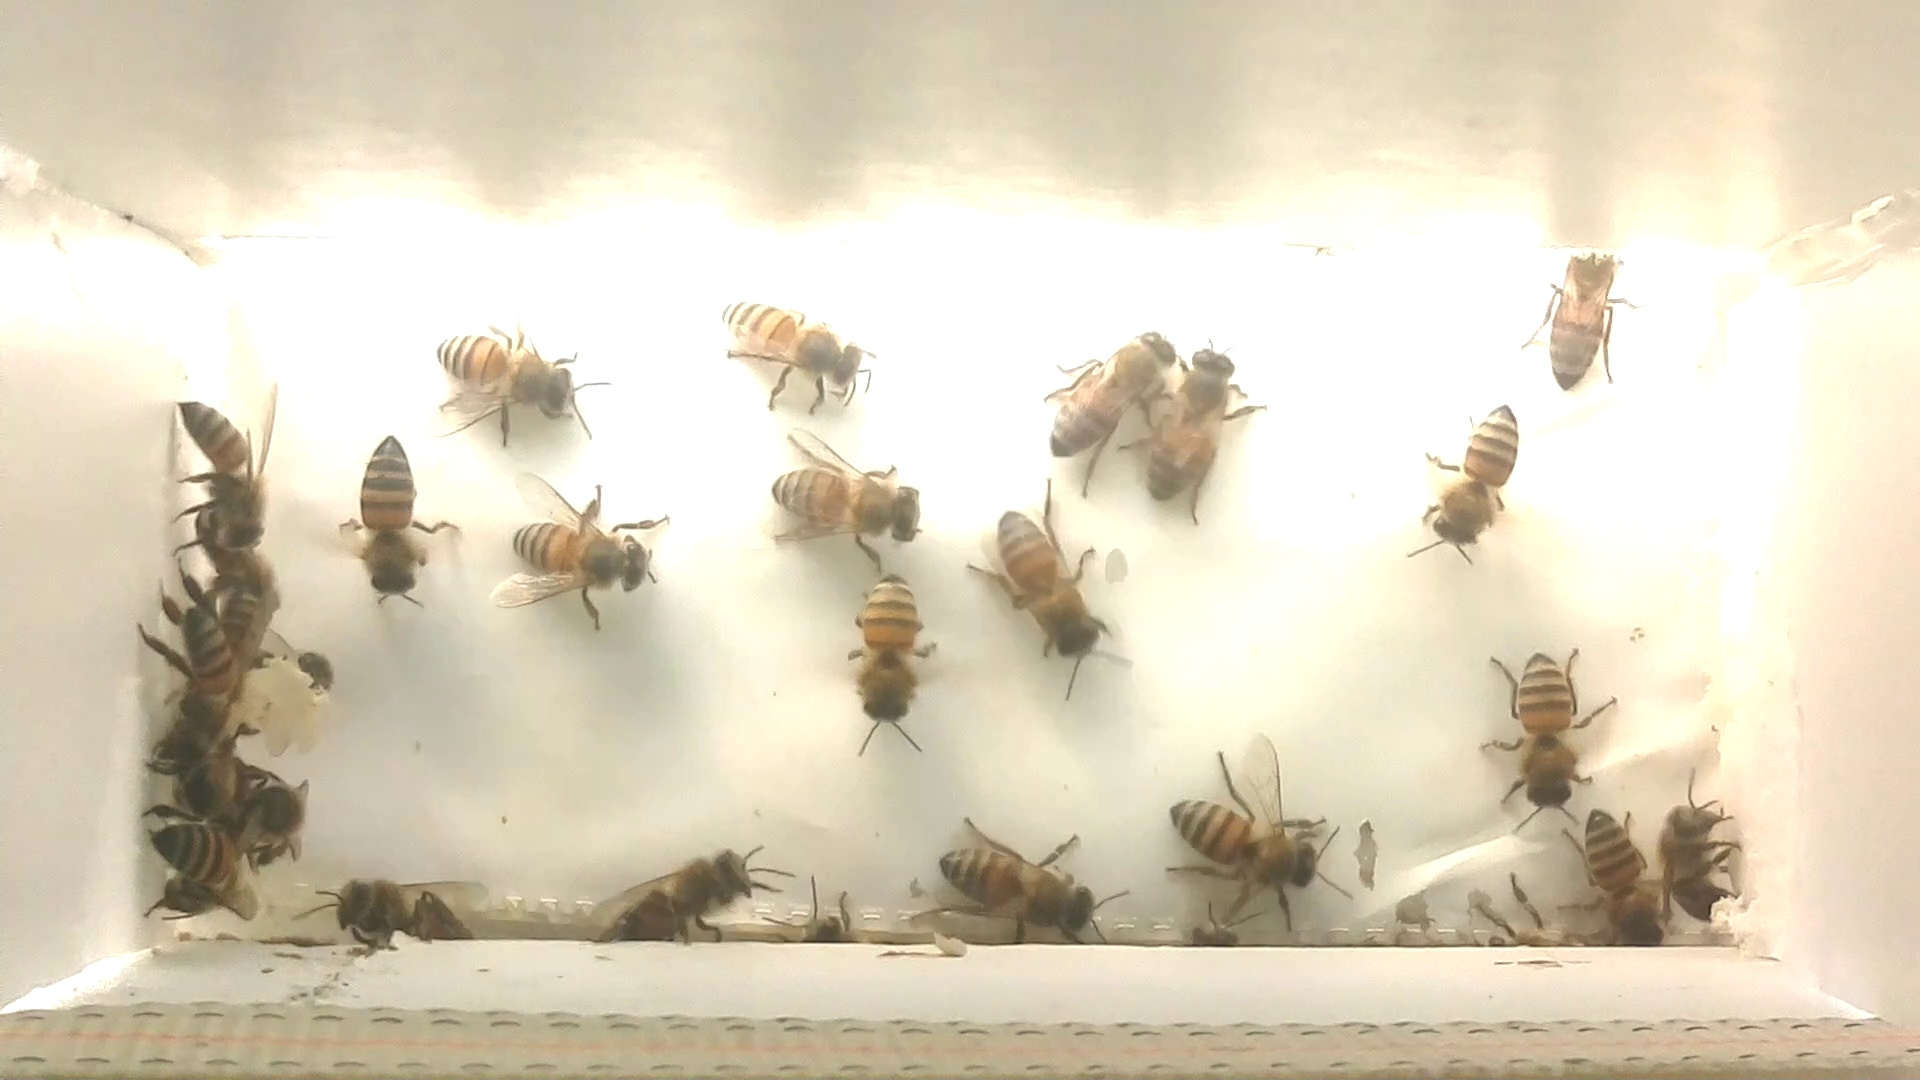bee: (945, 471, 1135, 708), (1149, 735, 1354, 936), (473, 458, 684, 654), (305, 406, 469, 630), (909, 806, 1131, 955), (1120, 316, 1271, 535), (700, 278, 899, 443), (1464, 621, 1621, 829), (1025, 303, 1185, 506), (749, 415, 942, 582), (409, 310, 616, 459), (564, 819, 785, 949), (1398, 381, 1536, 580), (824, 556, 949, 771), (154, 375, 286, 559), (290, 858, 498, 967), (1514, 229, 1643, 398), (1555, 790, 1675, 961), (1633, 771, 1755, 938), (138, 593, 245, 760), (131, 806, 262, 920), (196, 535, 287, 674), (173, 750, 281, 825)
